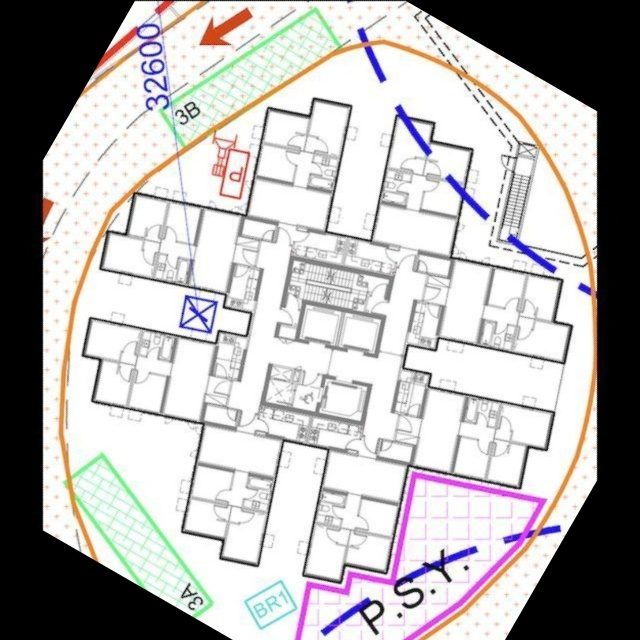tower_crane: (175, 293, 220, 340)
